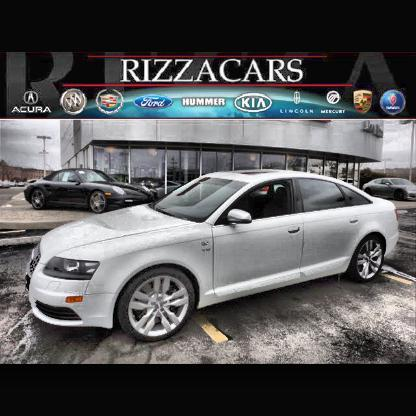Audi S6 Sedan 2011: (25, 170, 400, 342)
